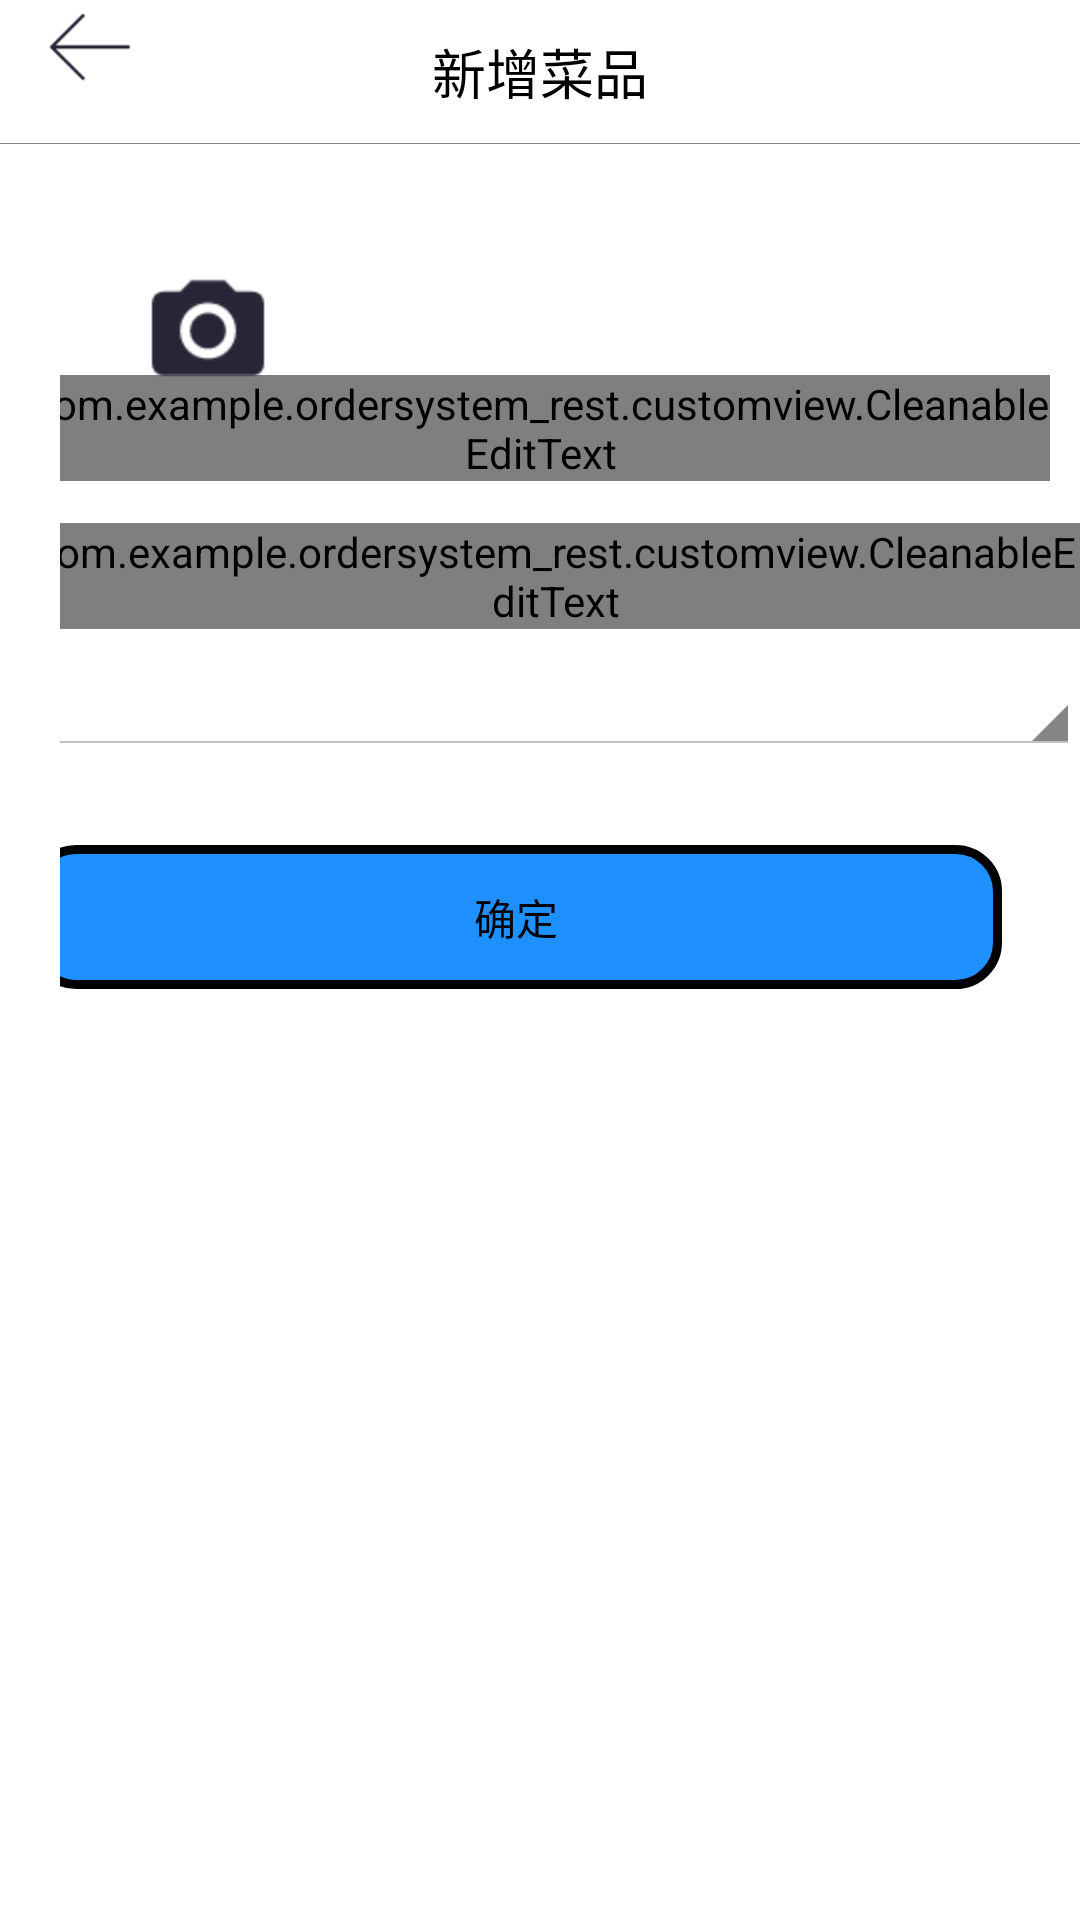

Point at icon controls on the screen. Image size 1080px x 1920px, points as point (x, y).
left arrow: point (90, 47)
